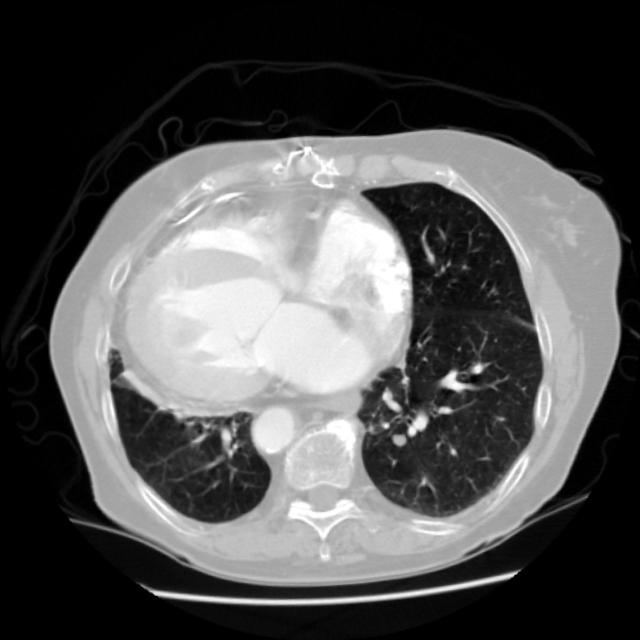nodule: (383, 421, 418, 456)
